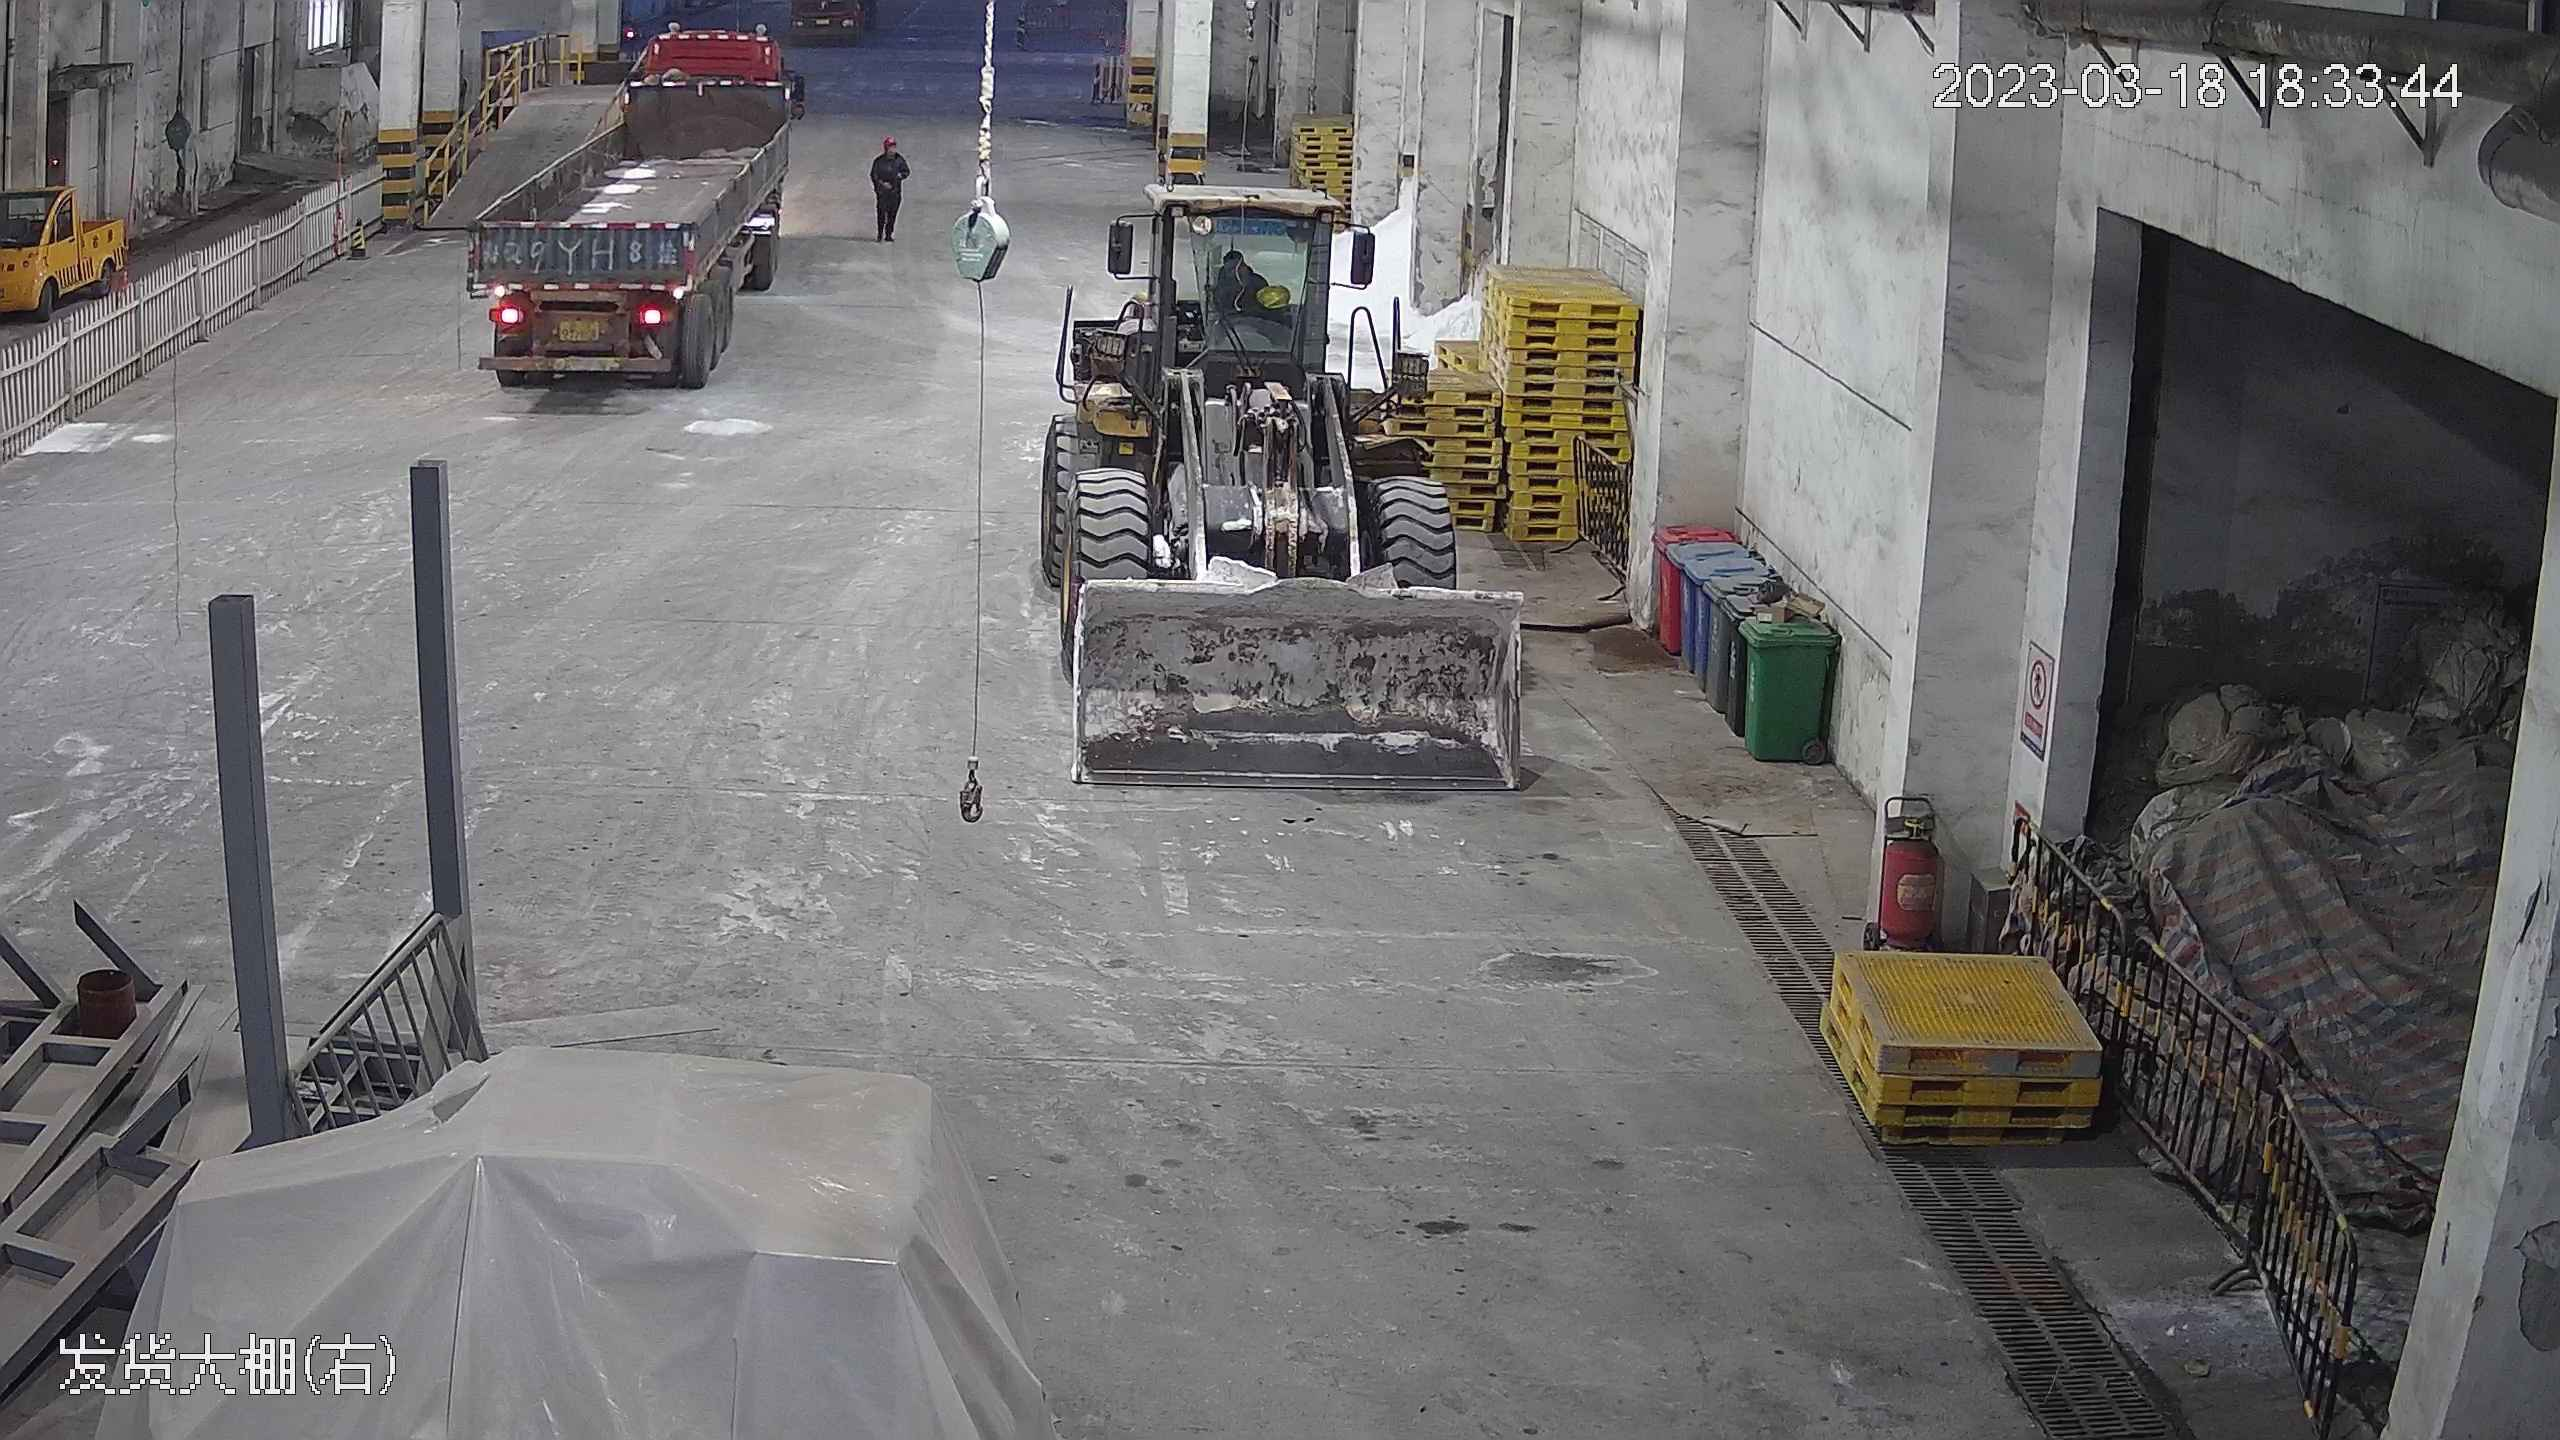head: (869, 133, 907, 171)
helmet: (881, 135, 897, 148)
people: (866, 131, 909, 244)
truck: (461, 14, 800, 393)
